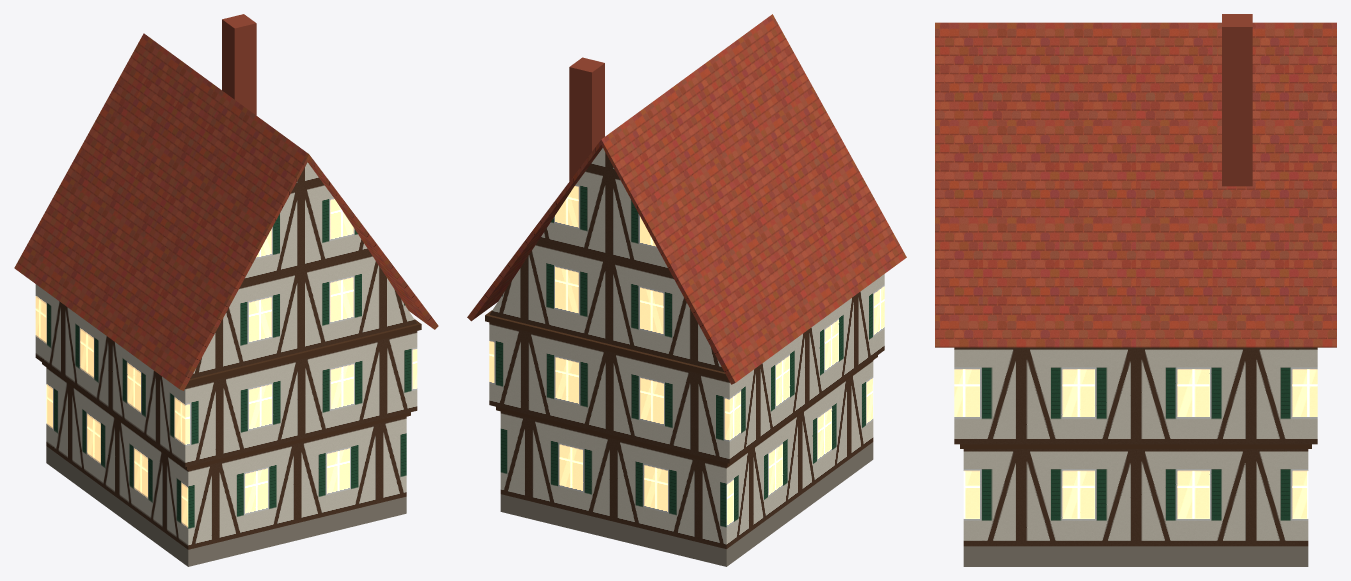
File: eu_half_a.glb
The picture shows the model from 3 angles, left to right: view 1: azimuth 30°, elevation 25°; view 2: azimuth 150°, elevation 25°; view 3: azimuth 270°, elevation 25°; orthographic projection. The views are drawn at different scales.
Visible parts, largest first — view 1: roof; view 2: roof; view 3: roof.
Part boxes in pixels (<box>): roof: <box>14,14,438,566</box>; roof: <box>467,14,906,566</box>; roof: <box>935,14,1336,566</box>.
Bounding box in the file's own units: 9.5 × 14.82 × 10.5.
Materials: 5 (2 with a texture image).
